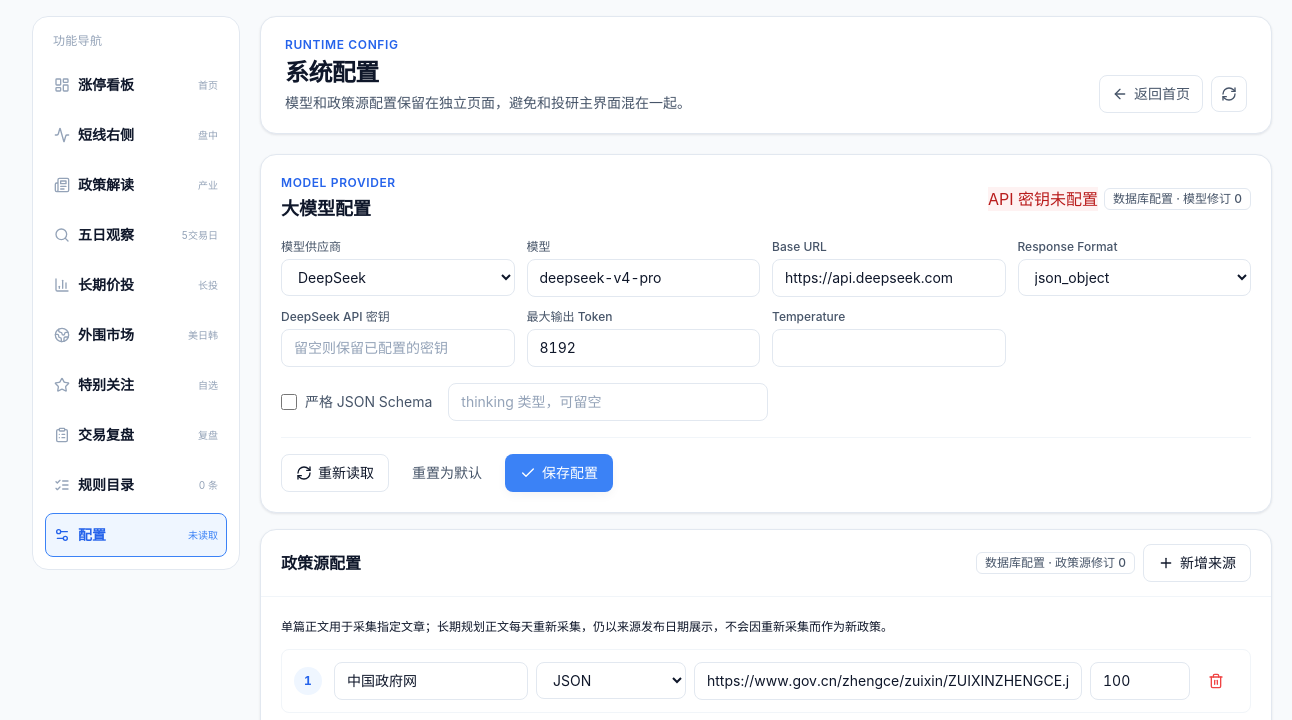
it: App home routes and navigation › returns from settings to the home board using the header action
The width and height of the screenshot is (1292, 720).
Expected: the heading "系统配置" is shown, [285, 58, 379, 87]
Step 1. Click the button "返回首页" → (1151, 94), box [1099, 75, 1203, 113]
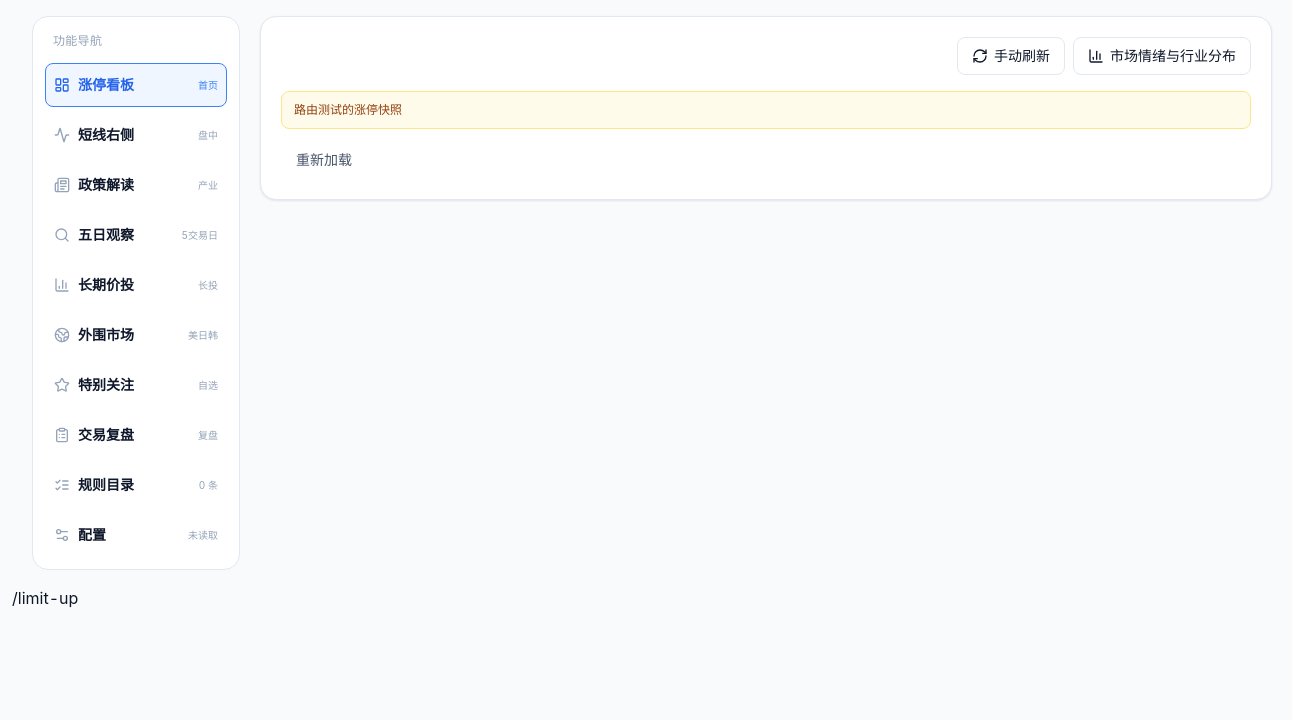
Expected: the button "涨停看板 首页" is shown, [45, 63, 227, 107]
Expected: the text named "当前路由" reads "/limit-up", [12, 588, 78, 608]
Expected: the element showing "手动刷新 市场情绪与行业分布 路由测试的涨停快照 重新加载" is shown, [260, 16, 1272, 200]
